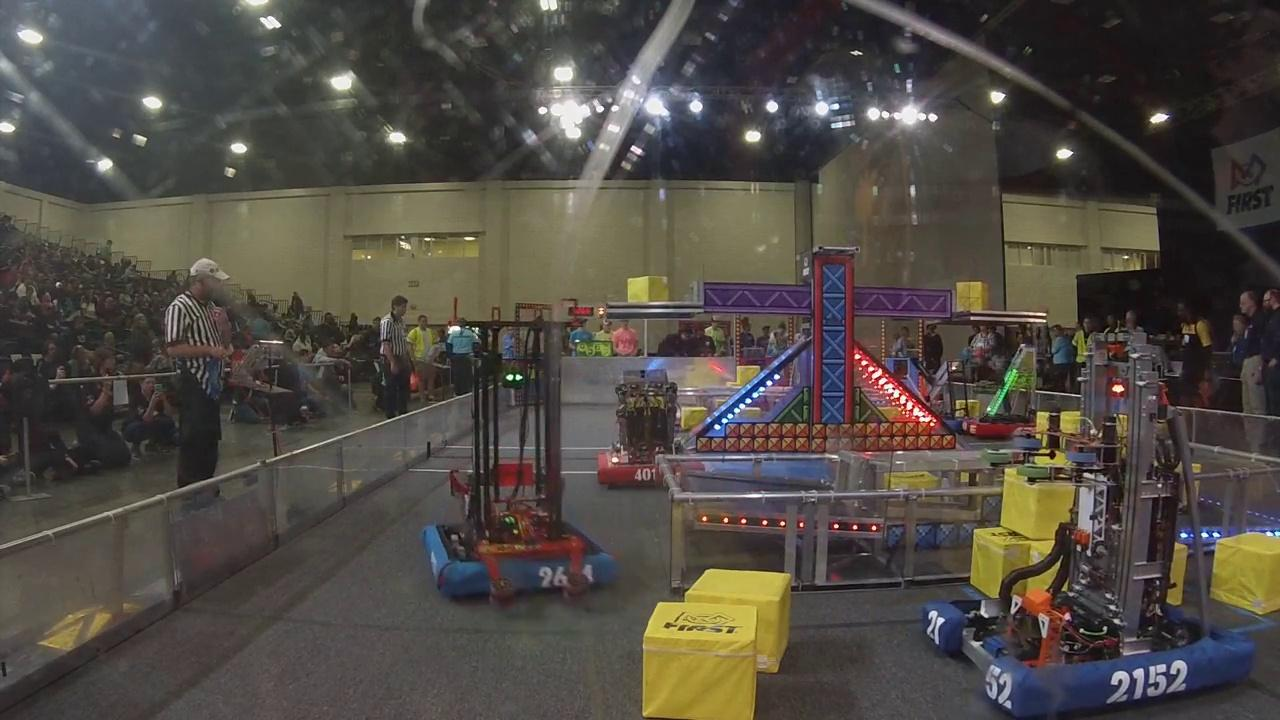robot: (914, 330, 1280, 720), (423, 309, 623, 604), (599, 377, 708, 490)
